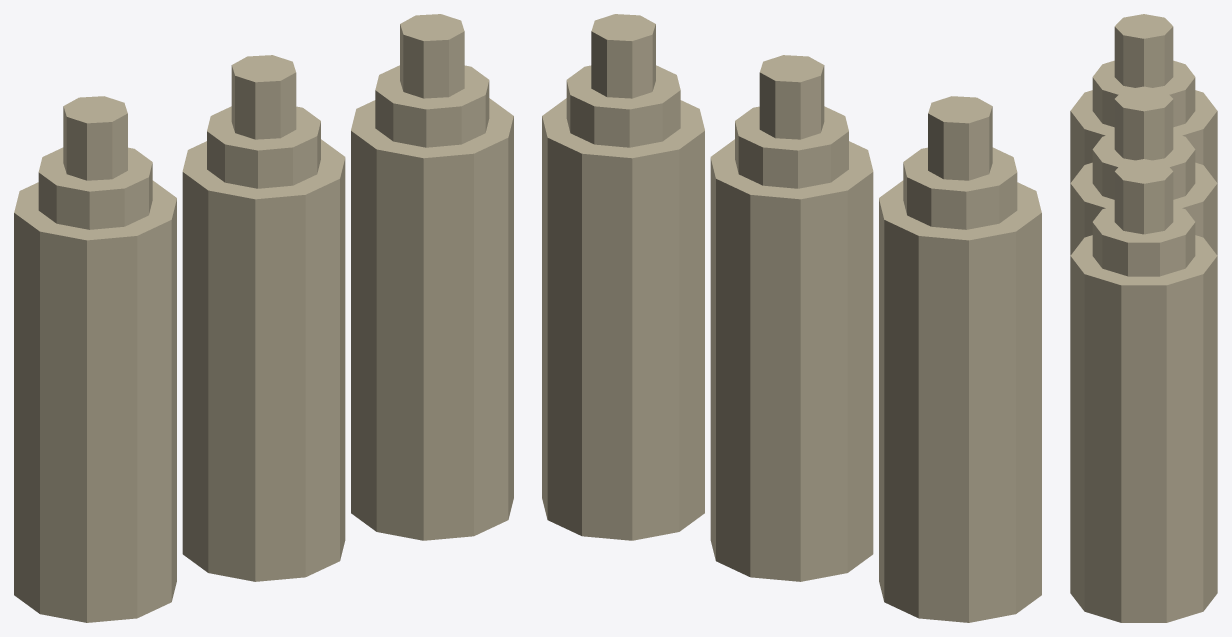
Rendered from set_detergent_jug.glb.
3 views of the same model, side by side, from view 1: azimuth 30°, elevation 25°; view 2: azimuth 150°, elevation 25°; view 3: azimuth 270°, elevation 25° (orthographic). The views are drawn at different scales.
Parts seen in each view (by area): view 1: set_detergent_jug; view 2: set_detergent_jug; view 3: set_detergent_jug.
Boxes of the visible parts, x1,y1,x2,y2 form: set_detergent_jug: [14, 14, 513, 622]; set_detergent_jug: [542, 14, 1041, 622]; set_detergent_jug: [1070, 14, 1217, 622].
Size of the model in its own units: 0.1971 by 0.19 by 0.06.
